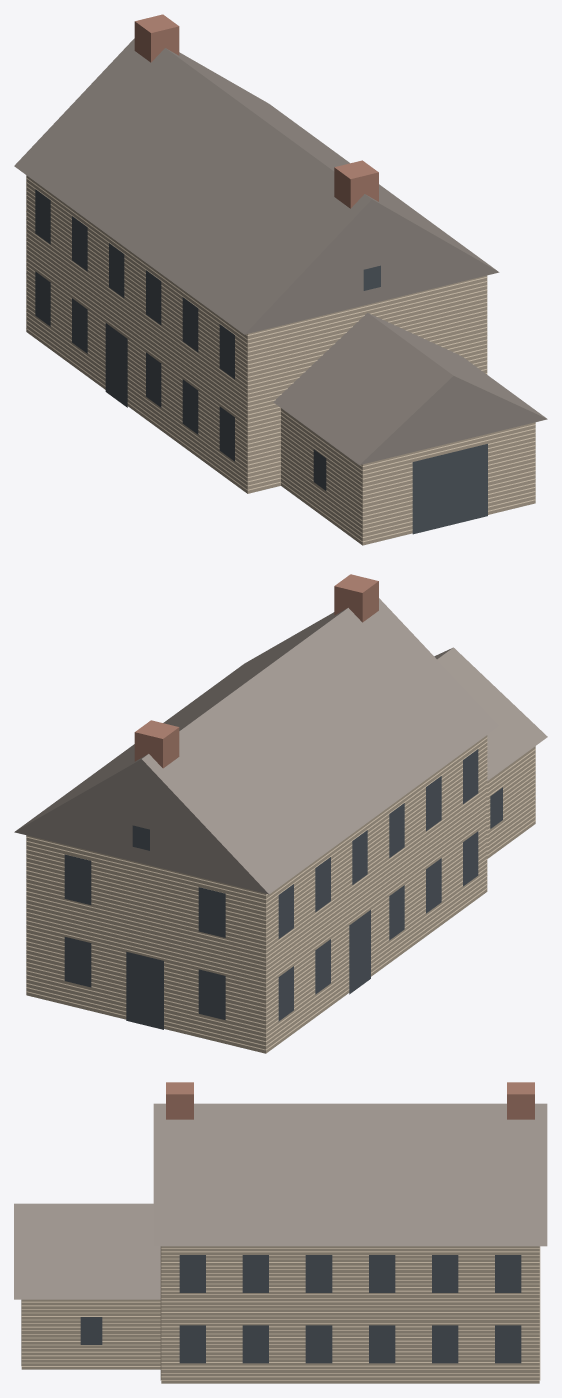
The model's file is green_tree_tavern__frame_1833.glb.
3 renders of one model, top to bottom at view 1: azimuth 30°, elevation 25°; view 2: azimuth 150°, elevation 25°; view 3: azimuth 270°, elevation 25°, orthographic. The views are drawn at different scales.
Parts seen in each view (by area): view 1: green_tree_tavern__frame_1833; view 2: green_tree_tavern__frame_1833; view 3: green_tree_tavern__frame_1833.
Part boxes in pixels (x1,y1,x2,y2): green_tree_tavern__frame_1833: [14, 14, 547, 545]; green_tree_tavern__frame_1833: [14, 574, 547, 1053]; green_tree_tavern__frame_1833: [14, 1082, 547, 1383].
Size of the model in its own units: 8.12 by 8.72 by 17.21.
